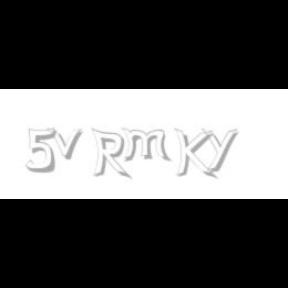5: (25, 128, 56, 174)
K: (174, 128, 214, 180)
R: (91, 128, 129, 180)
m: (120, 128, 172, 162)
v: (46, 128, 86, 160)
y: (202, 128, 242, 172)
